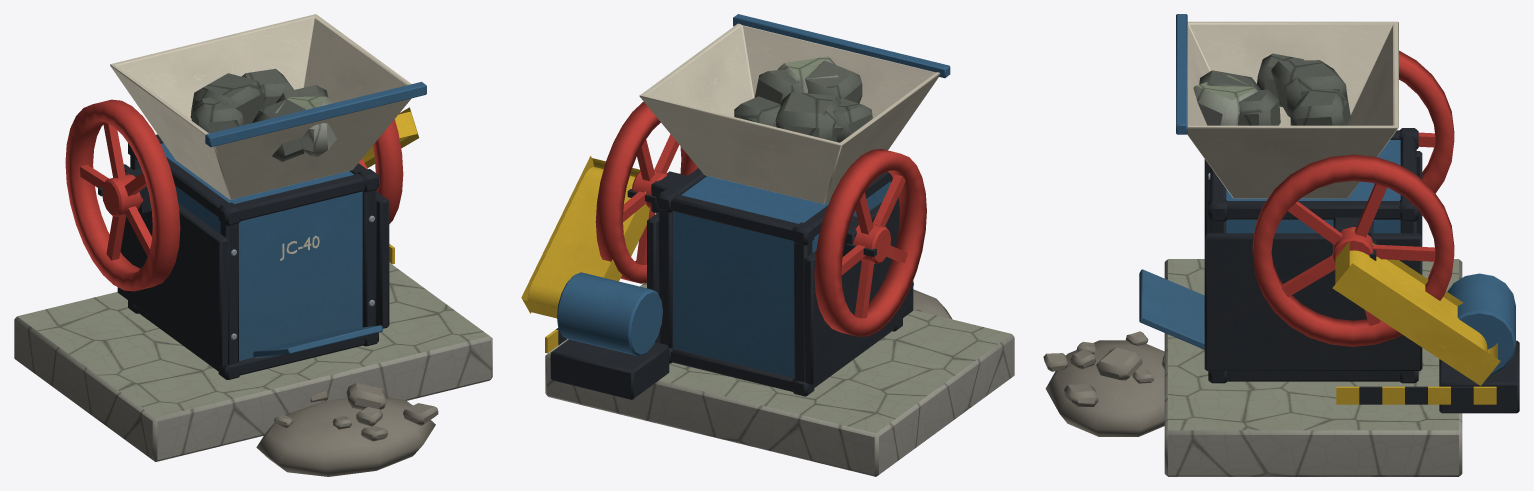
File: crusher_machine.glb
The picture shows the model from 3 angles, left to right: view 1: azimuth 30°, elevation 25°; view 2: azimuth 150°, elevation 25°; view 3: azimuth 270°, elevation 25°; orthographic projection. The views are drawn at different scales.
Visible parts, largest first — view 1: crusher_machine; view 2: crusher_machine; view 3: crusher_machine.
Part boxes in pixels (x1,y1,x2,y2): crusher_machine: [14, 14, 492, 476]; crusher_machine: [521, 14, 1014, 476]; crusher_machine: [1043, 14, 1519, 476].
Size of the model in its own units: 3.65 by 3.34 by 4.16.
15 materials, 15 textured.
